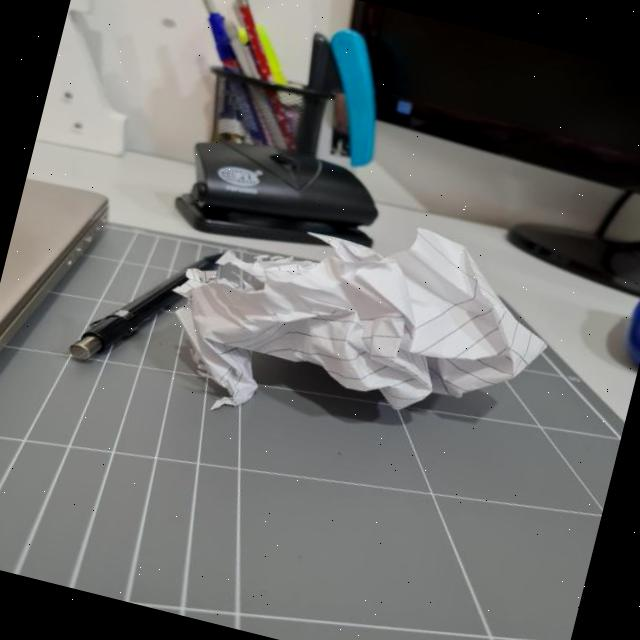trash: (158, 169, 590, 477)
